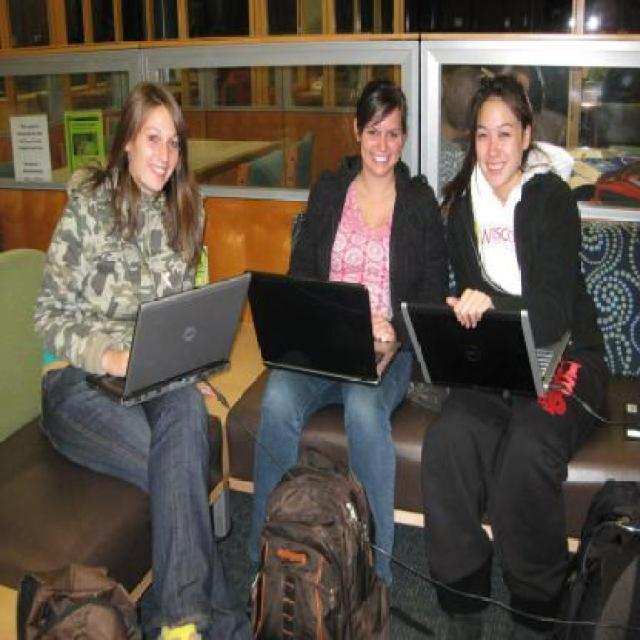backpack: (253, 441, 395, 640), (15, 558, 151, 640)
